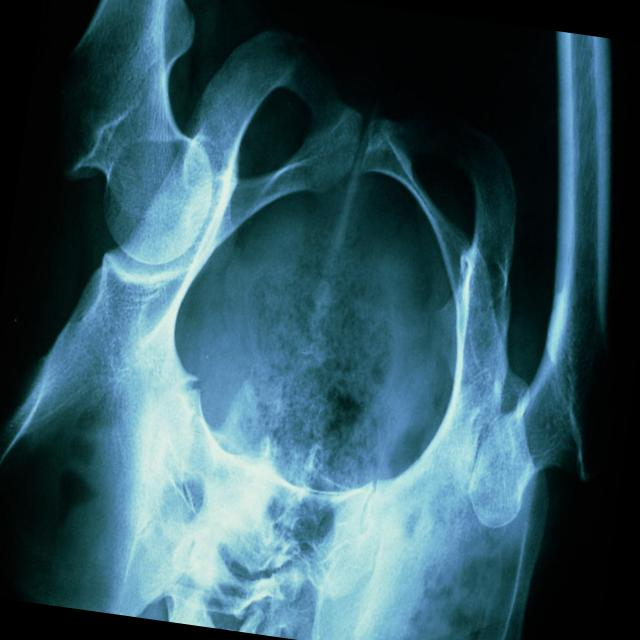normal-left: (54, 0, 212, 265)
right-dislocation: (468, 210, 610, 527)
